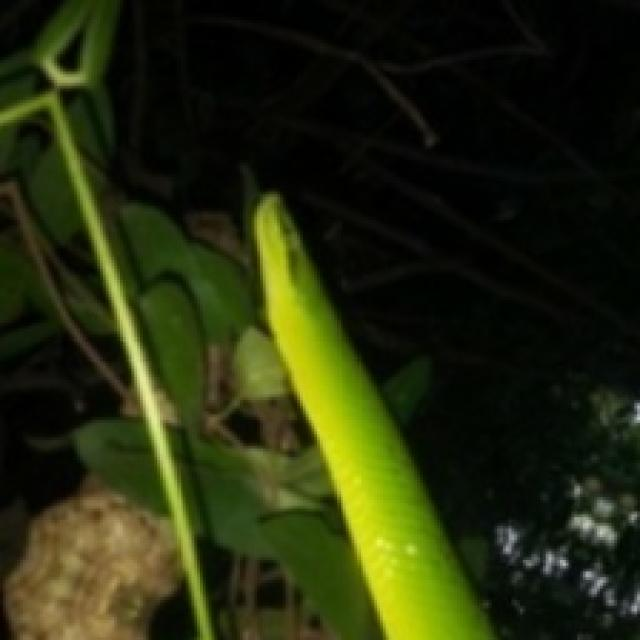red-tailed green ratsnake: (254, 194, 491, 637)
